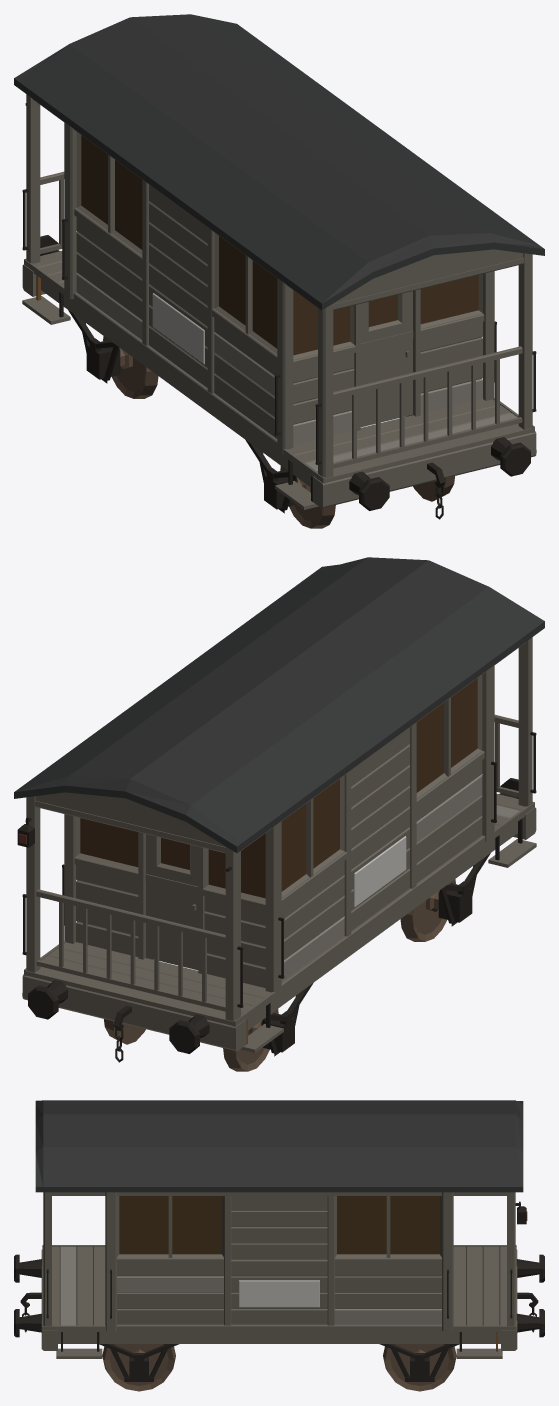
The model's file is guard-s-van-6231d0.glb.
3 renders of one model, top to bottom at view 1: azimuth 30°, elevation 25°; view 2: azimuth 150°, elevation 25°; view 3: azimuth 270°, elevation 25°, orthographic. The views are drawn at different scales.
Visible parts, largest first — view 1: body, wheel-1-set, wheel-2-set; view 2: body, wheel-2-set, wheel-1-set; view 3: body, wheel-1-set, wheel-2-set.
Part boxes in pixels (left/top/right/bottom): body: left=14, top=14, right=544, bottom=519; wheel-1-set: left=280, top=414, right=454, bottom=528; wheel-2-set: left=103, top=336, right=158, bottom=398; body: left=14, top=557, right=544, bottom=1062; wheel-2-set: left=104, top=957, right=278, bottom=1071; wheel-1-set: left=400, top=879, right=455, bottom=941; body: left=14, top=1100, right=544, bottom=1381; wheel-1-set: left=102, top=1344, right=175, bottom=1391; wheel-2-set: left=383, top=1344, right=456, bottom=1391.
Size of the model in its own units: 2.88 by 3.79 by 7.19.
